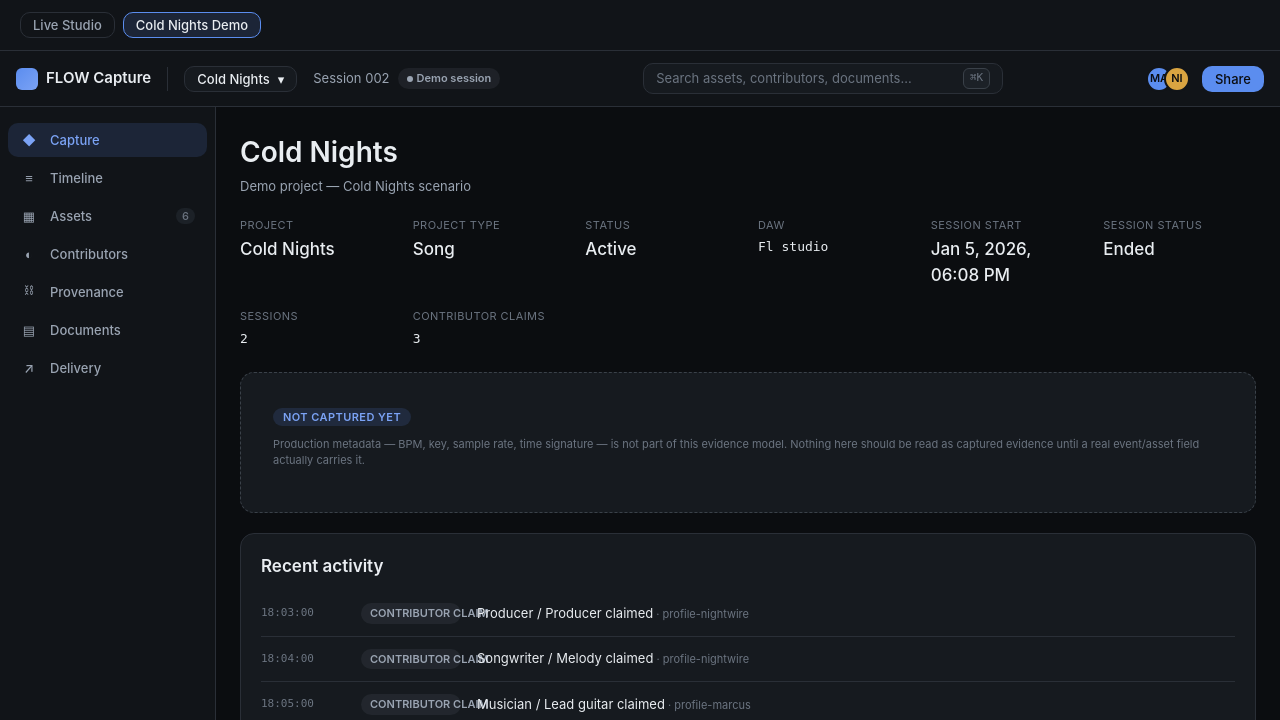
Test: Live Studio — real write path (mocked Studio service) › shows a clear, actionable message when the local Studio service is unreachable
Click the button "Live Studio" at point(67, 25), box [20,12,115,38]
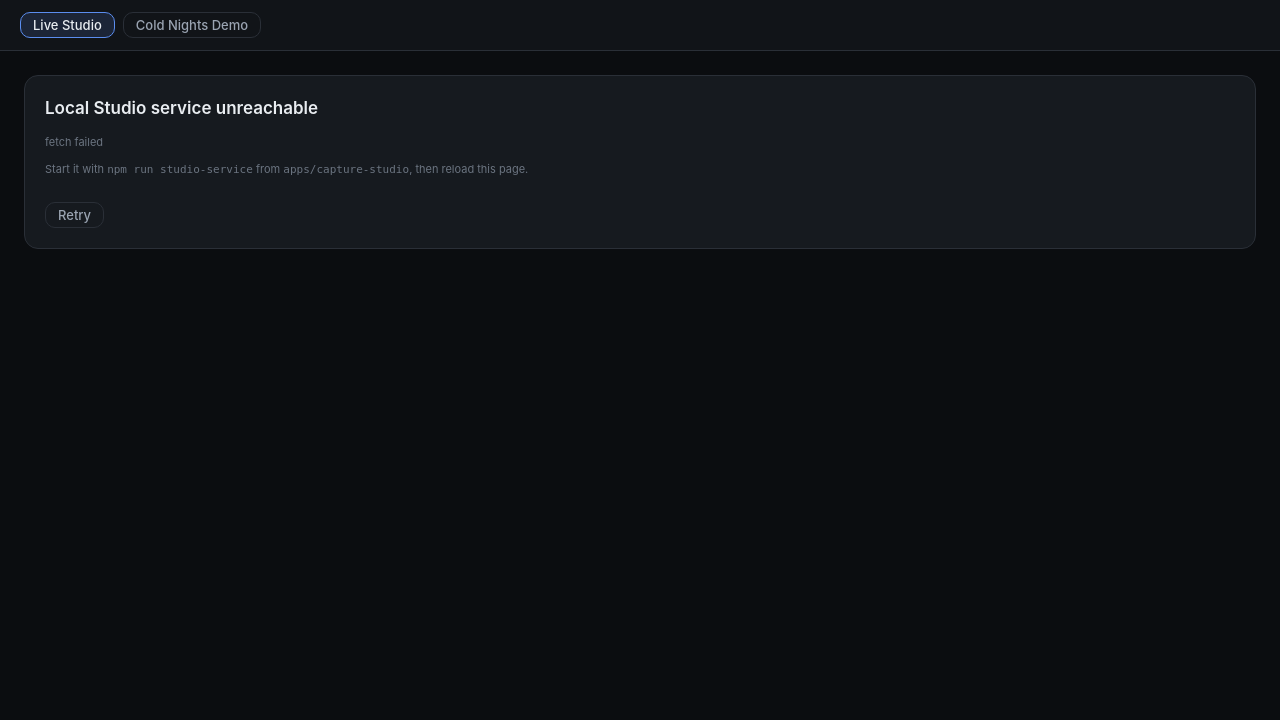
Check: the text "Local Studio service unreachable" is shown, box [45,98,318,118]
Check: the text "npm run studio-service" is shown, box [107,163,253,176]
